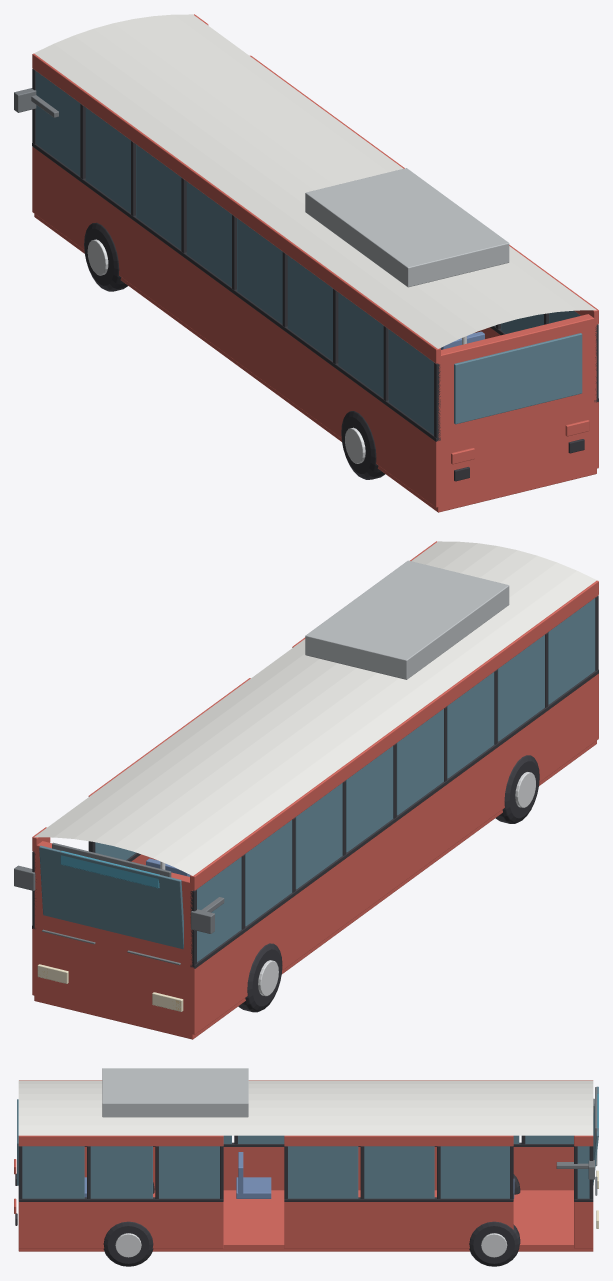
File: BusRed.fbx
3 views of the same model, one above another, from view 1: azimuth 30°, elevation 25°; view 2: azimuth 150°, elevation 25°; view 3: azimuth 270°, elevation 25° (orthographic). The views are drawn at different scales.
Parts seen in each view (by area): view 1: BusRed; view 2: BusRed; view 3: BusRed.
Boxes of the visible parts, <box> form: BusRed: <box>14,14,598,512</box>; BusRed: <box>14,541,598,1039</box>; BusRed: <box>14,1068,598,1266</box>.
Size of the model in its own units: 310 by 325 by 1120.
